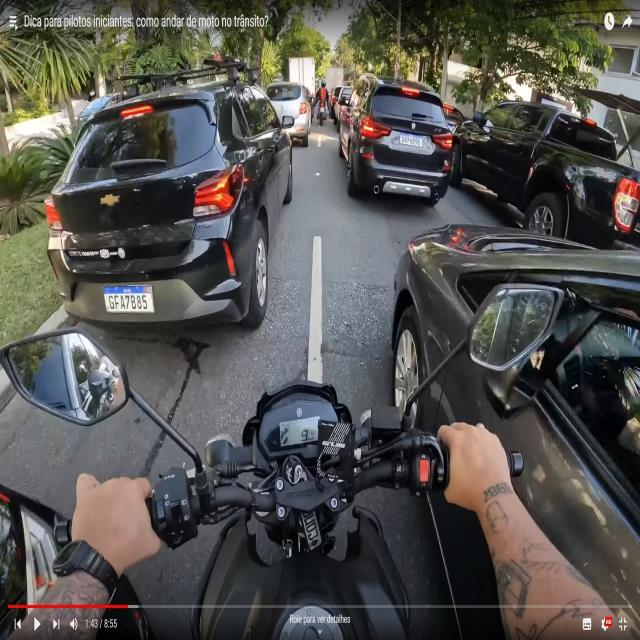Placa_mercosul_carro: (103, 286, 154, 312)
